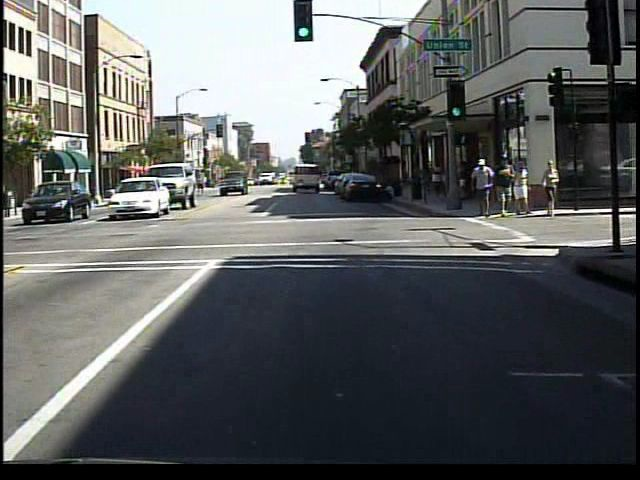person: (469, 157, 496, 222), (540, 157, 566, 222), (492, 153, 517, 217), (514, 157, 535, 221), (430, 157, 449, 206), (194, 172, 212, 201)
